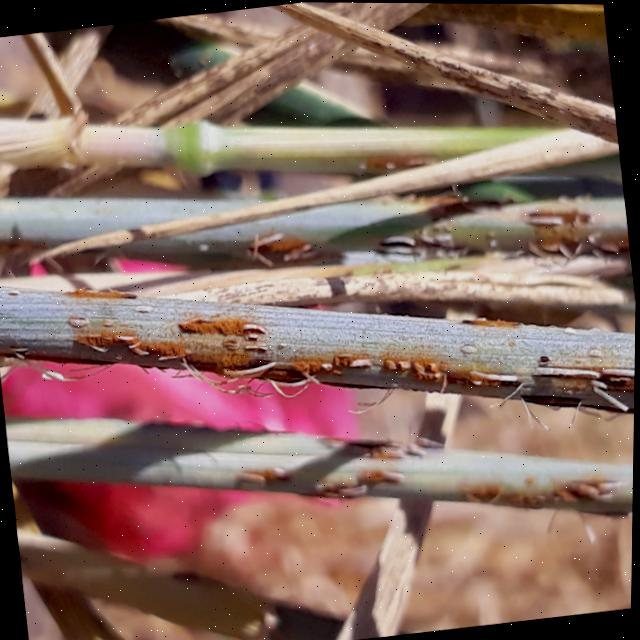black_stem_rust: (0, 14, 640, 607)
